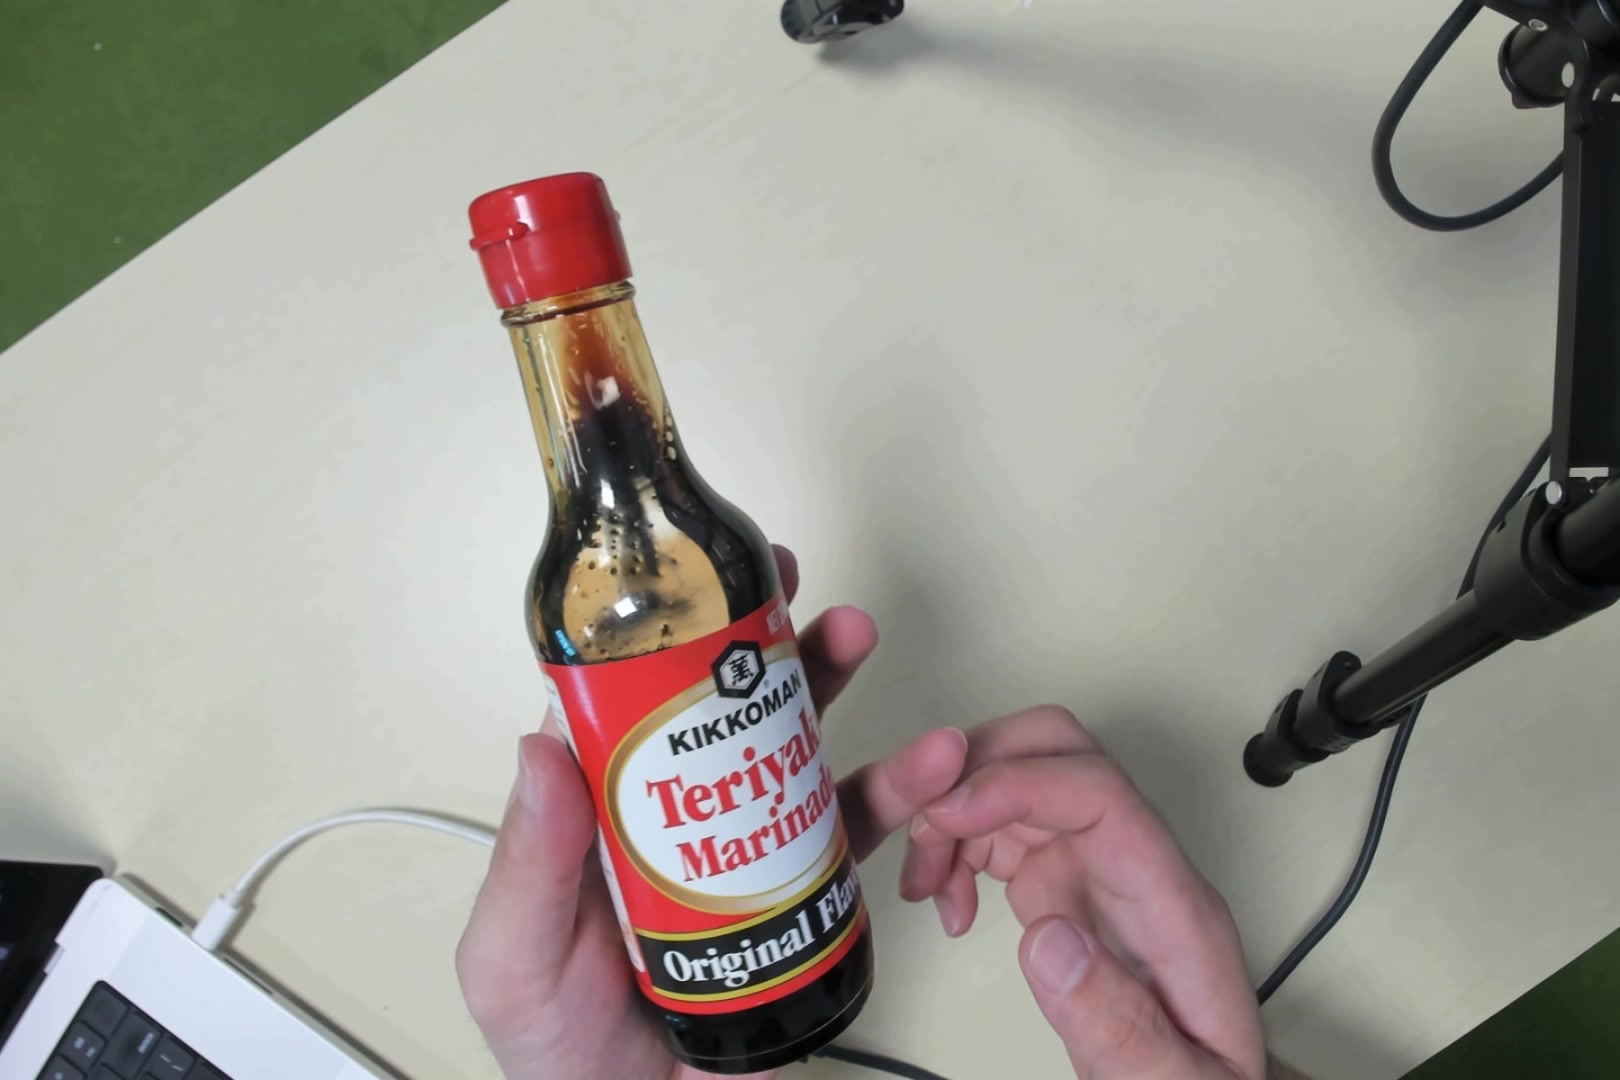OtherSauceDressingSoupbasePaste_200-299g_NonHalal_NonHealthy: (495, 204, 856, 1017)
